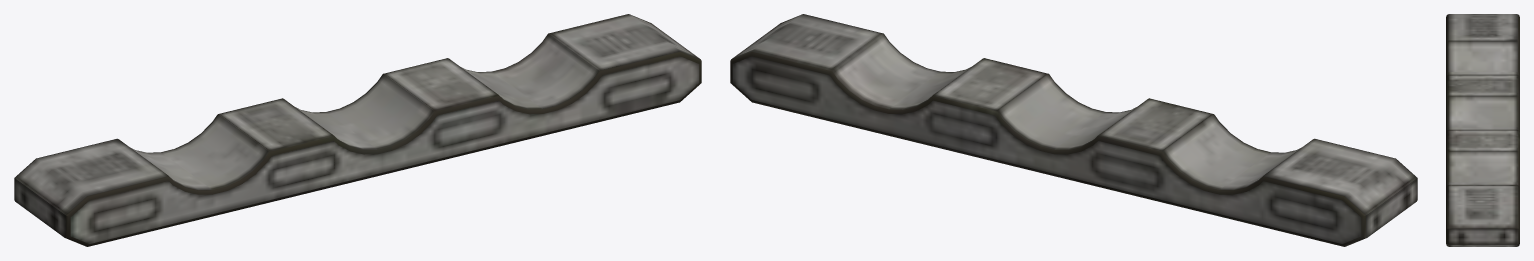
File: pipe-saddle-rail--1.gltf
The picture shows the model from 3 angles, left to right: view 1: azimuth 30°, elevation 25°; view 2: azimuth 150°, elevation 25°; view 3: azimuth 270°, elevation 25°; orthographic projection. The views are drawn at different scales.
Parts seen in each view (by area): view 1: prop; view 2: prop; view 3: prop.
Part boxes in pixels (<box>): prop: <box>14,14,701,246</box>; prop: <box>730,14,1417,246</box>; prop: <box>1446,14,1519,246</box>.
Size of the model in its own units: 0.963 by 0.0746 by 0.1413.
Materials: 1 (1 with a texture image).
